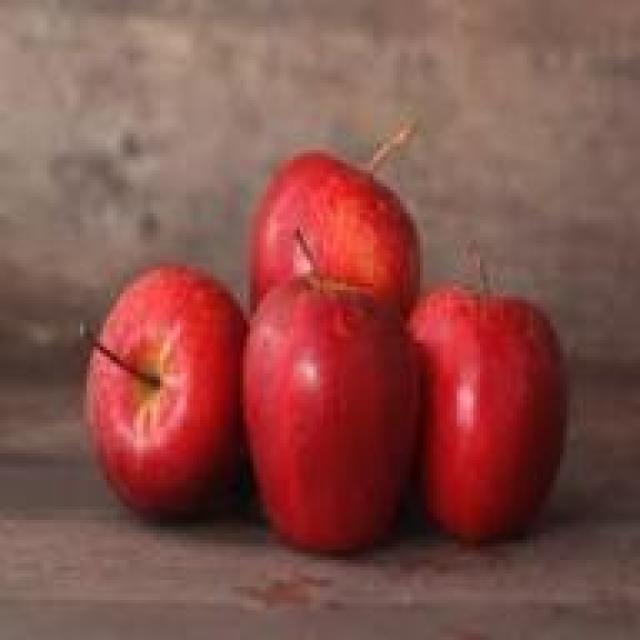apple: (73, 270, 257, 517), (240, 297, 413, 543), (417, 290, 563, 543), (250, 157, 417, 333)
